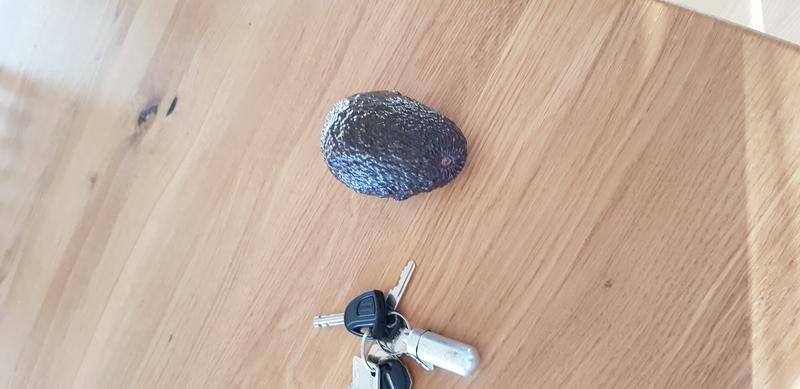Avocado: (312, 89, 480, 207)
